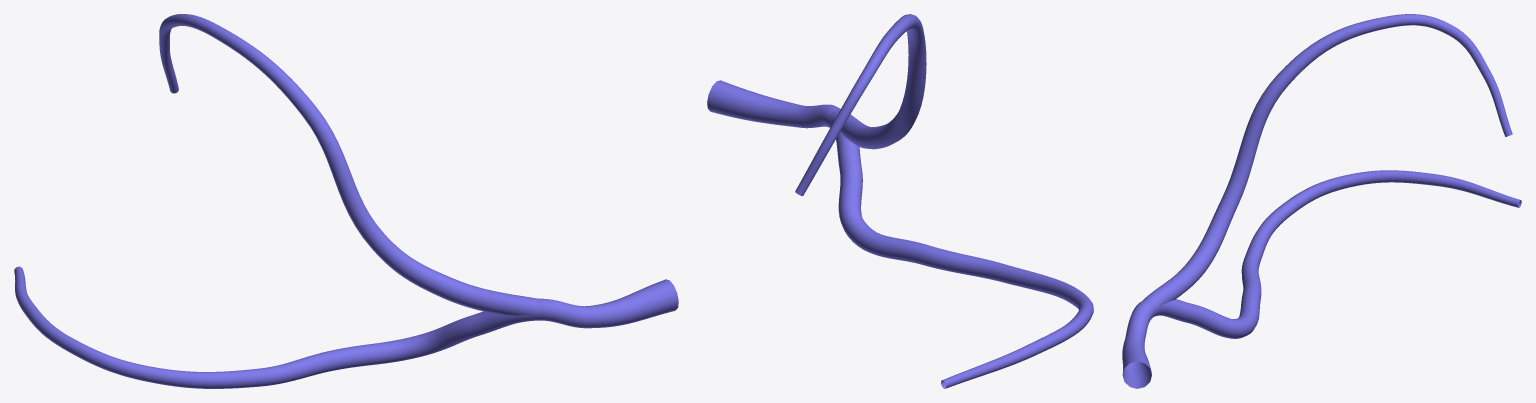
File: Lateral_circumflex_femoral_veins.r_BezierCurve.320.glb
The picture shows the model from 3 angles, left to right: view 1: azimuth 30°, elevation 25°; view 2: azimuth 150°, elevation 25°; view 3: azimuth 270°, elevation 25°; orthographic projection. The views are drawn at different scales.
Visible parts, largest first — view 1: Lateral_circumflex_femoral_veins.r_BezierCurve.320; view 2: Lateral_circumflex_femoral_veins.r_BezierCurve.320; view 3: Lateral_circumflex_femoral_veins.r_BezierCurve.320.
Boxes of the visible parts, <box> form: Lateral_circumflex_femoral_veins.r_BezierCurve.320: <box>14,14,678,388</box>; Lateral_circumflex_femoral_veins.r_BezierCurve.320: <box>707,14,1093,388</box>; Lateral_circumflex_femoral_veins.r_BezierCurve.320: <box>1122,14,1521,388</box>.
Size of the model in its own units: 0.0867 by 0.0509 by 0.0676.
